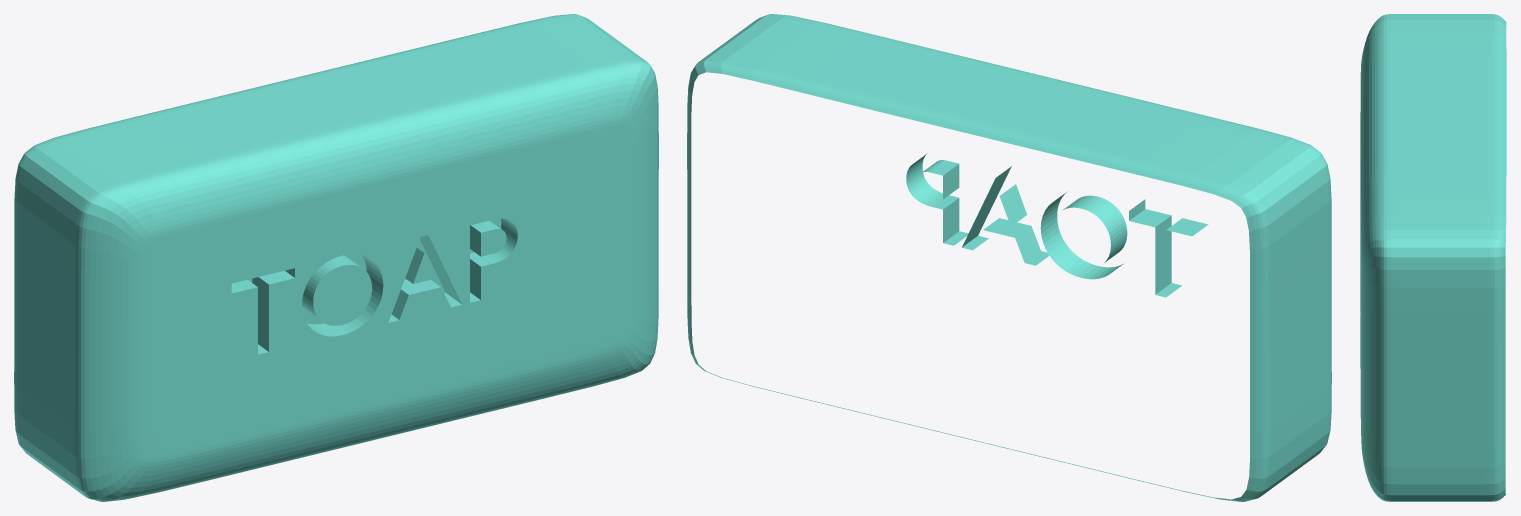
The picture shows the model from 3 angles, left to right: view 1: azimuth 30°, elevation 25°; view 2: azimuth 150°, elevation 25°; view 3: azimuth 270°, elevation 25°; orthographic projection. The views are drawn at different scales.
Visible parts, largest first — view 1: world; view 2: world; view 3: world.
Boxes of the visible parts, x1,y1,x2,y2 form: world: (14,14,658,501); world: (687,14,1331,501); world: (1360,14,1506,501).
Bounding box in the file's own units: 0.09 × 0.0468 × 0.023.
1 material, 1 textured.
